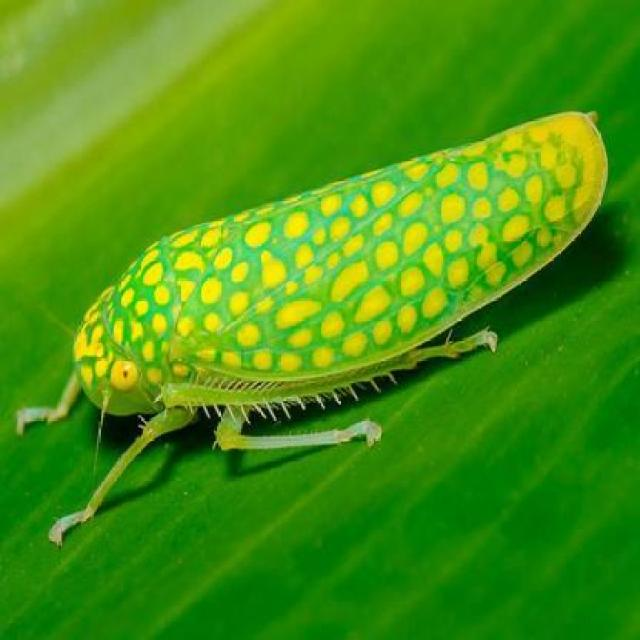green-leafhopper: (66, 111, 612, 420)
